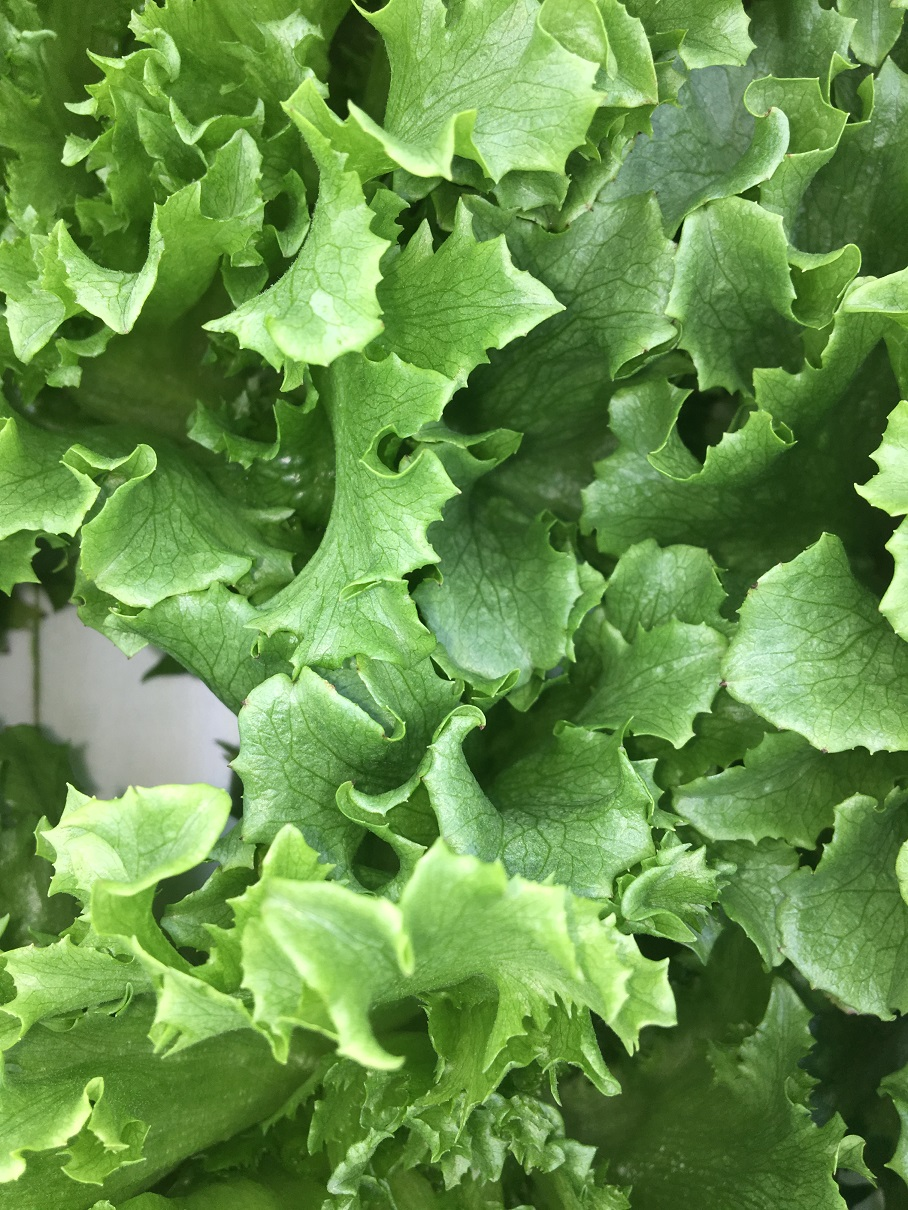tipburn: (822, 982, 864, 1029), (107, 639, 153, 681), (702, 666, 742, 707), (314, 668, 351, 710), (338, 653, 379, 687), (752, 91, 789, 128), (738, 564, 776, 600), (622, 114, 661, 148), (774, 137, 809, 174), (227, 687, 262, 722), (574, 189, 608, 225), (552, 210, 584, 245), (769, 936, 801, 970), (246, 635, 269, 669), (473, 708, 497, 739), (373, 721, 397, 747)
